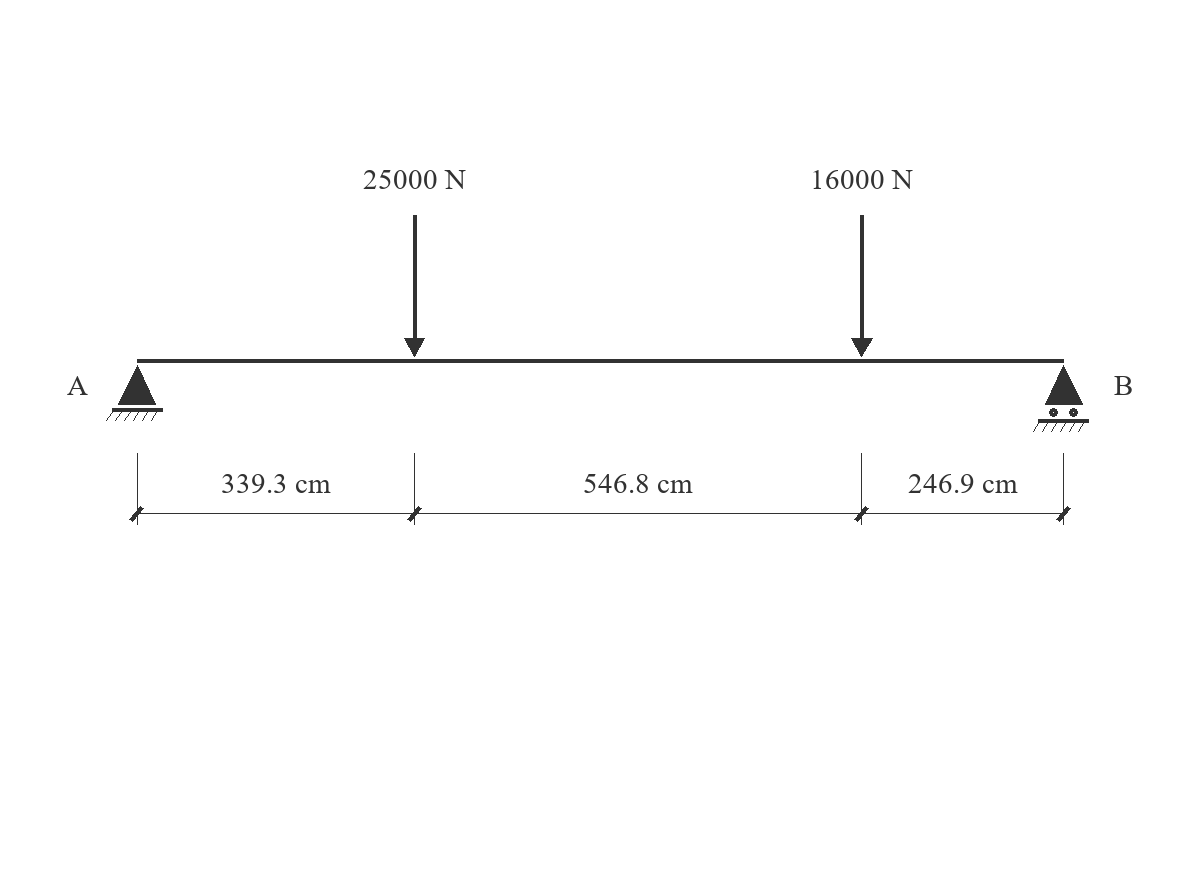pin_support: (106, 365, 163, 421)
point_load: (851, 215, 873, 357), (404, 215, 425, 357)
roller_support: (1033, 365, 1089, 432)
